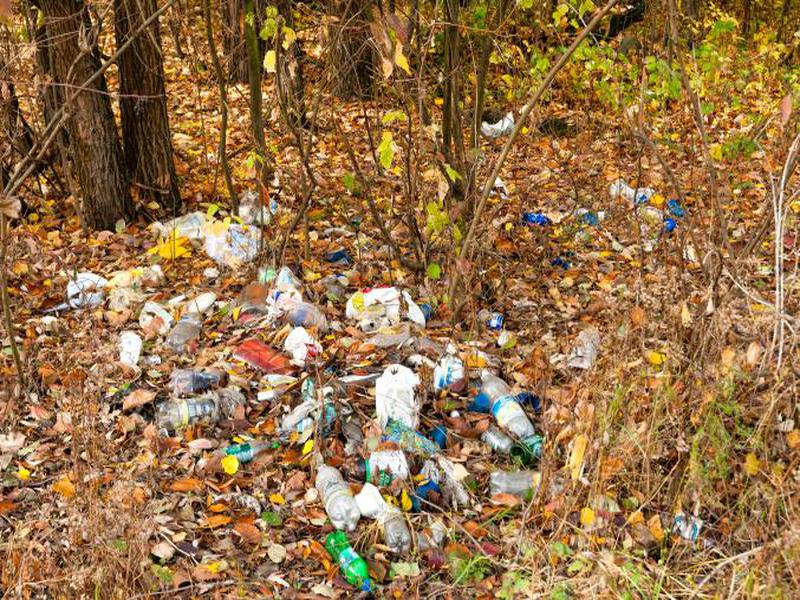bottle: (475, 371, 547, 452), (310, 532, 379, 594), (154, 388, 246, 434), (310, 460, 361, 534)
